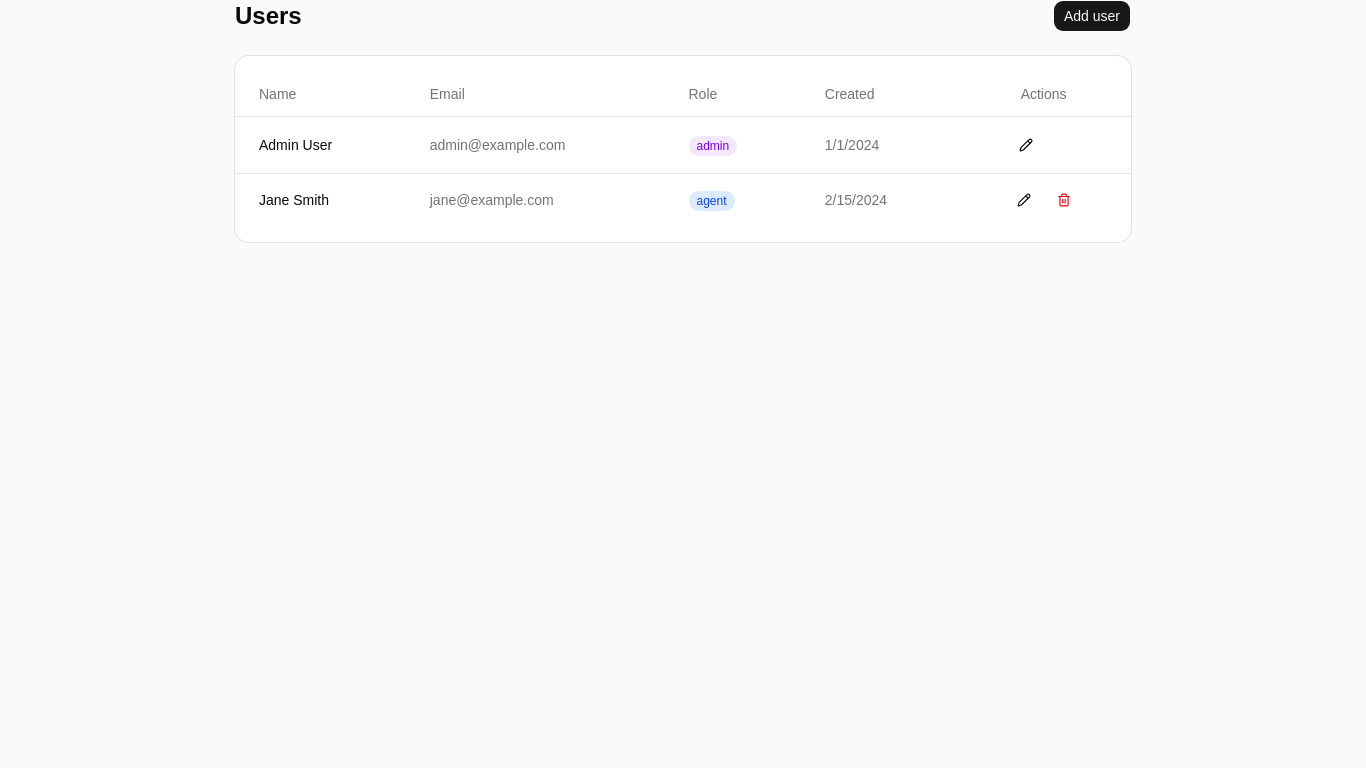
it: Users page › Edit user › opens the edit dialog with the user data pre-populated when pencil is clicked
Expected: the text "Jane Smith" is shown, [235,174,406,226]
What coordinates should you click on to do the following:
click the button named "edit jane smith"
I would click on:
 (1024, 200)
Its box is [1006,186,1042,214].
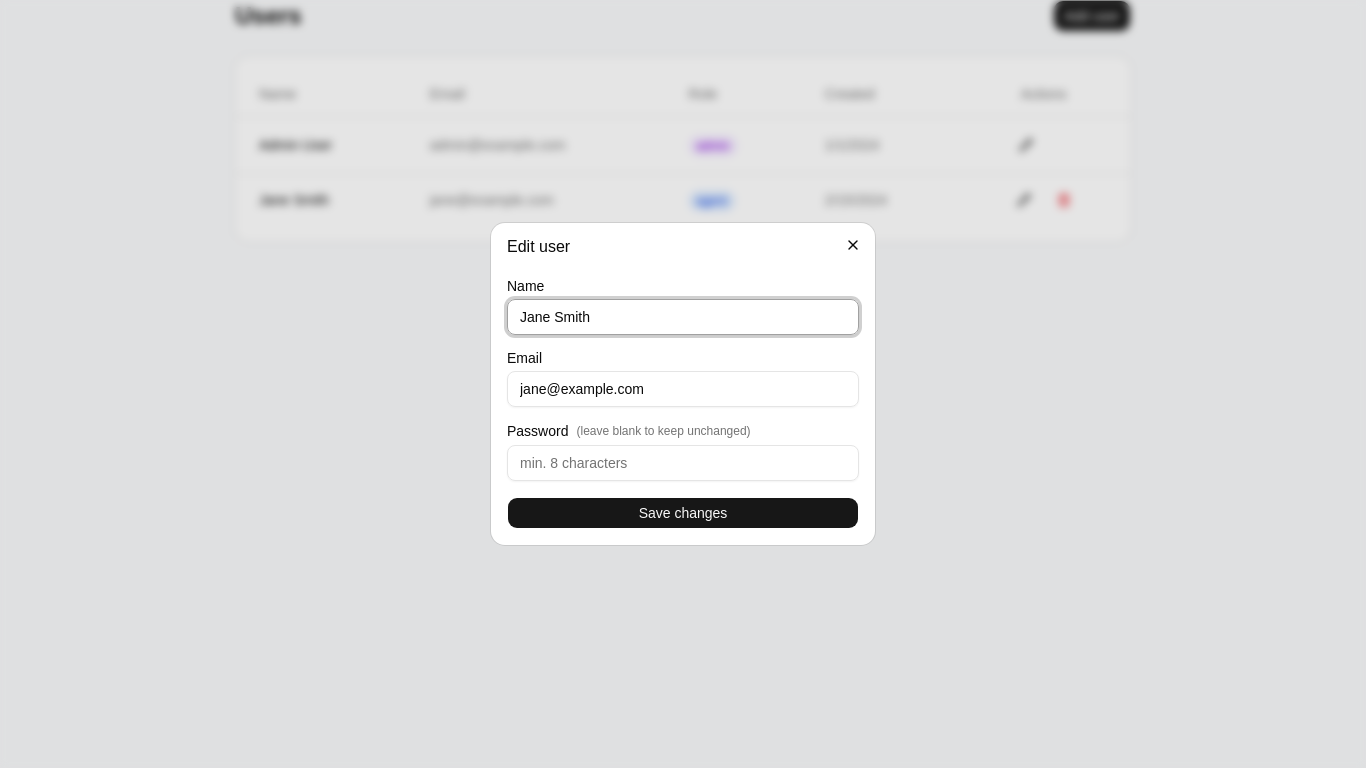
Now the heading "Edit user" is shown, box [507,238,570,255]
Now the field labelled "Name" holds "Jane Smith", box [507,299,859,335]
Now the field labelled "Email" holds "jane@example.com", box [507,371,859,407]
